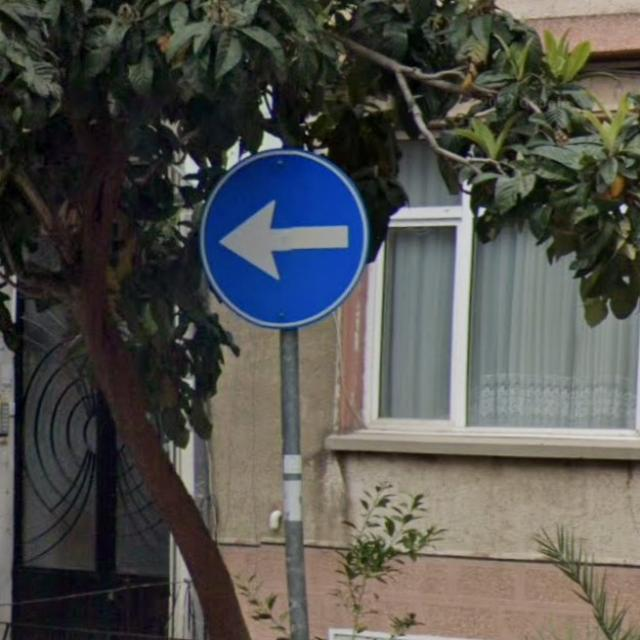Turn Left: (198, 157, 370, 332)
